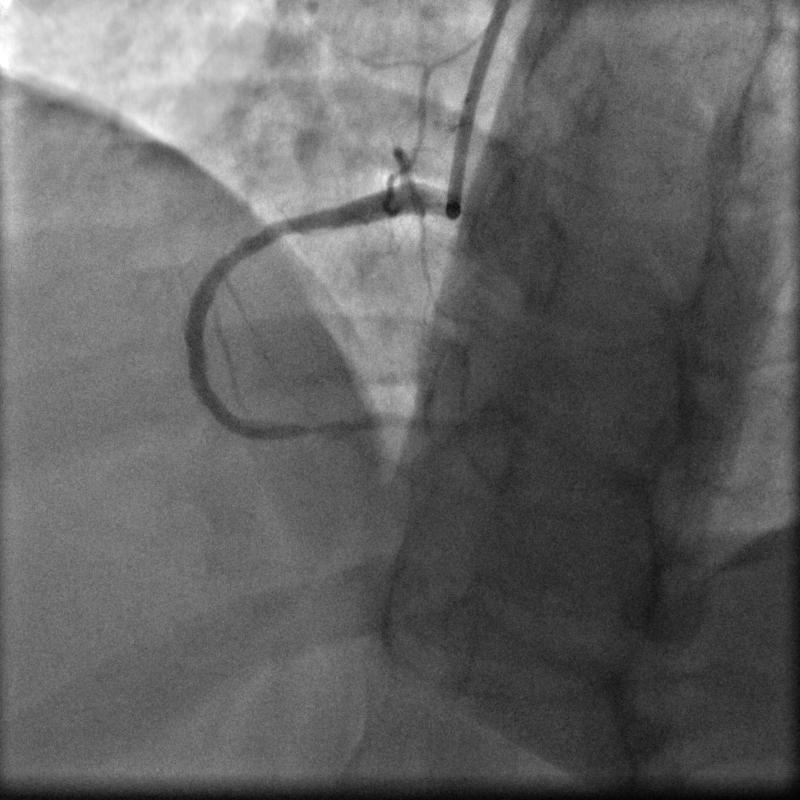Stenosis: (286, 414, 338, 443)
